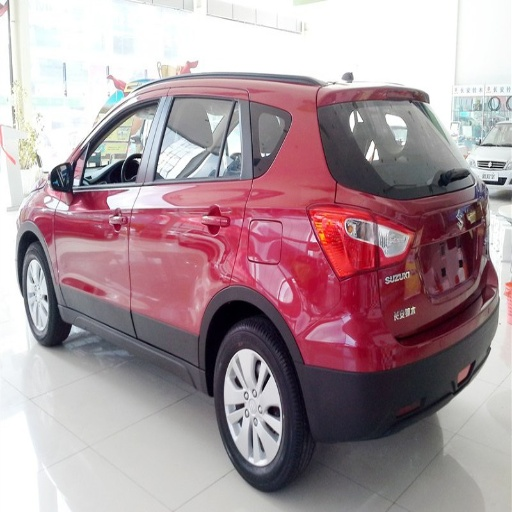back_bumper: (301, 282, 496, 440)
back_glass: (321, 100, 466, 192)
back_left_door: (130, 89, 250, 354)
trunk: (367, 187, 483, 340)
